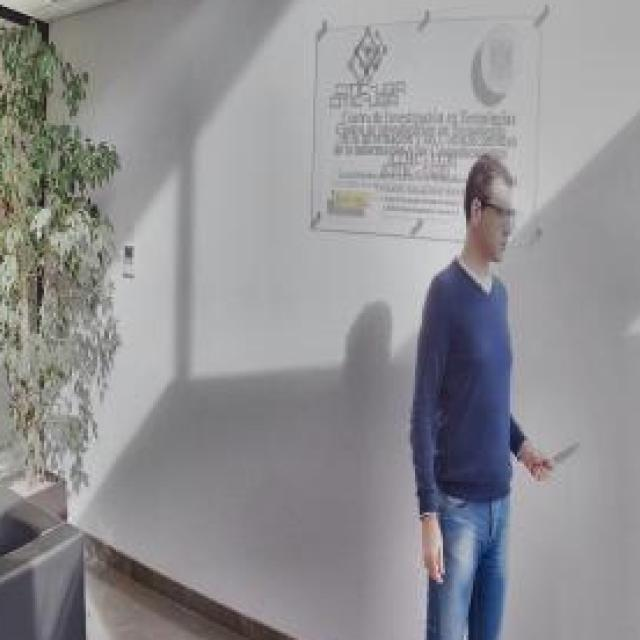knife: (529, 436, 583, 485)
